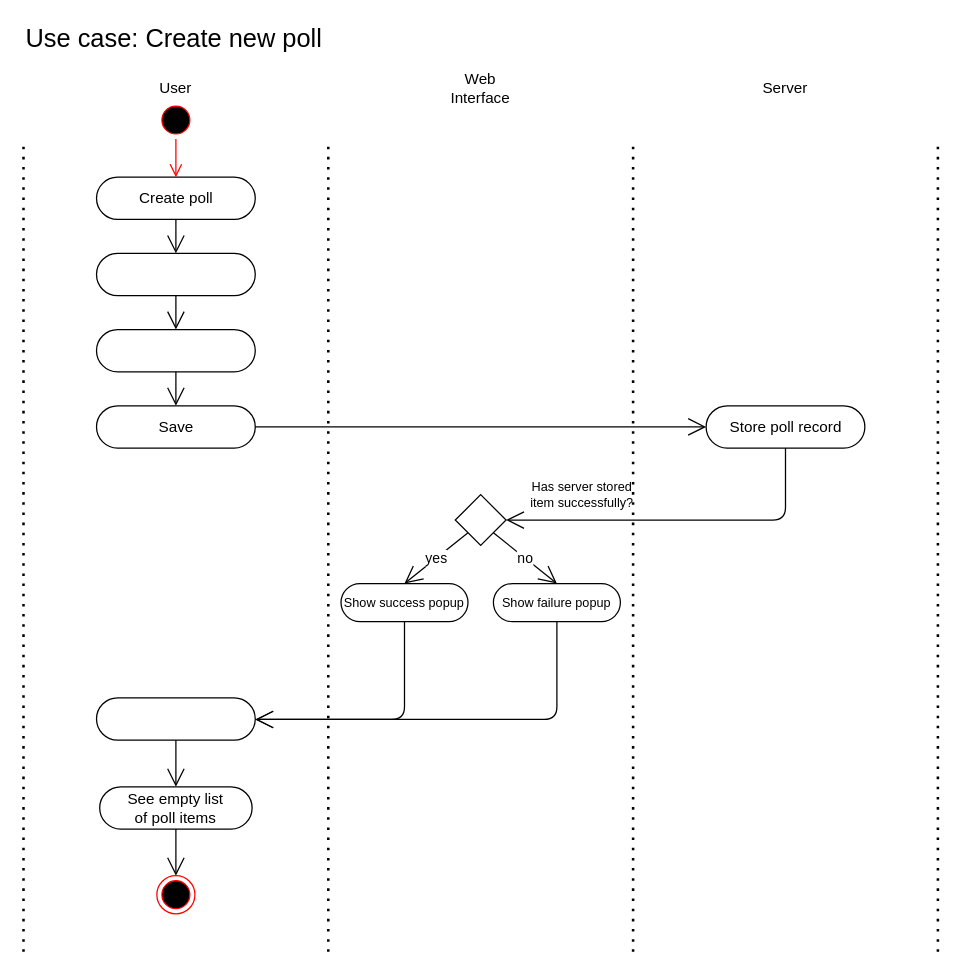
This 961x975 diagram has some shape labels left out. The centre of each missing label's shape, as x and y in pixels:
Dismiss popup: pixel 175 718
Enter name of poll: pixel 175 274
Set publishing date for event: pixel 175 350
